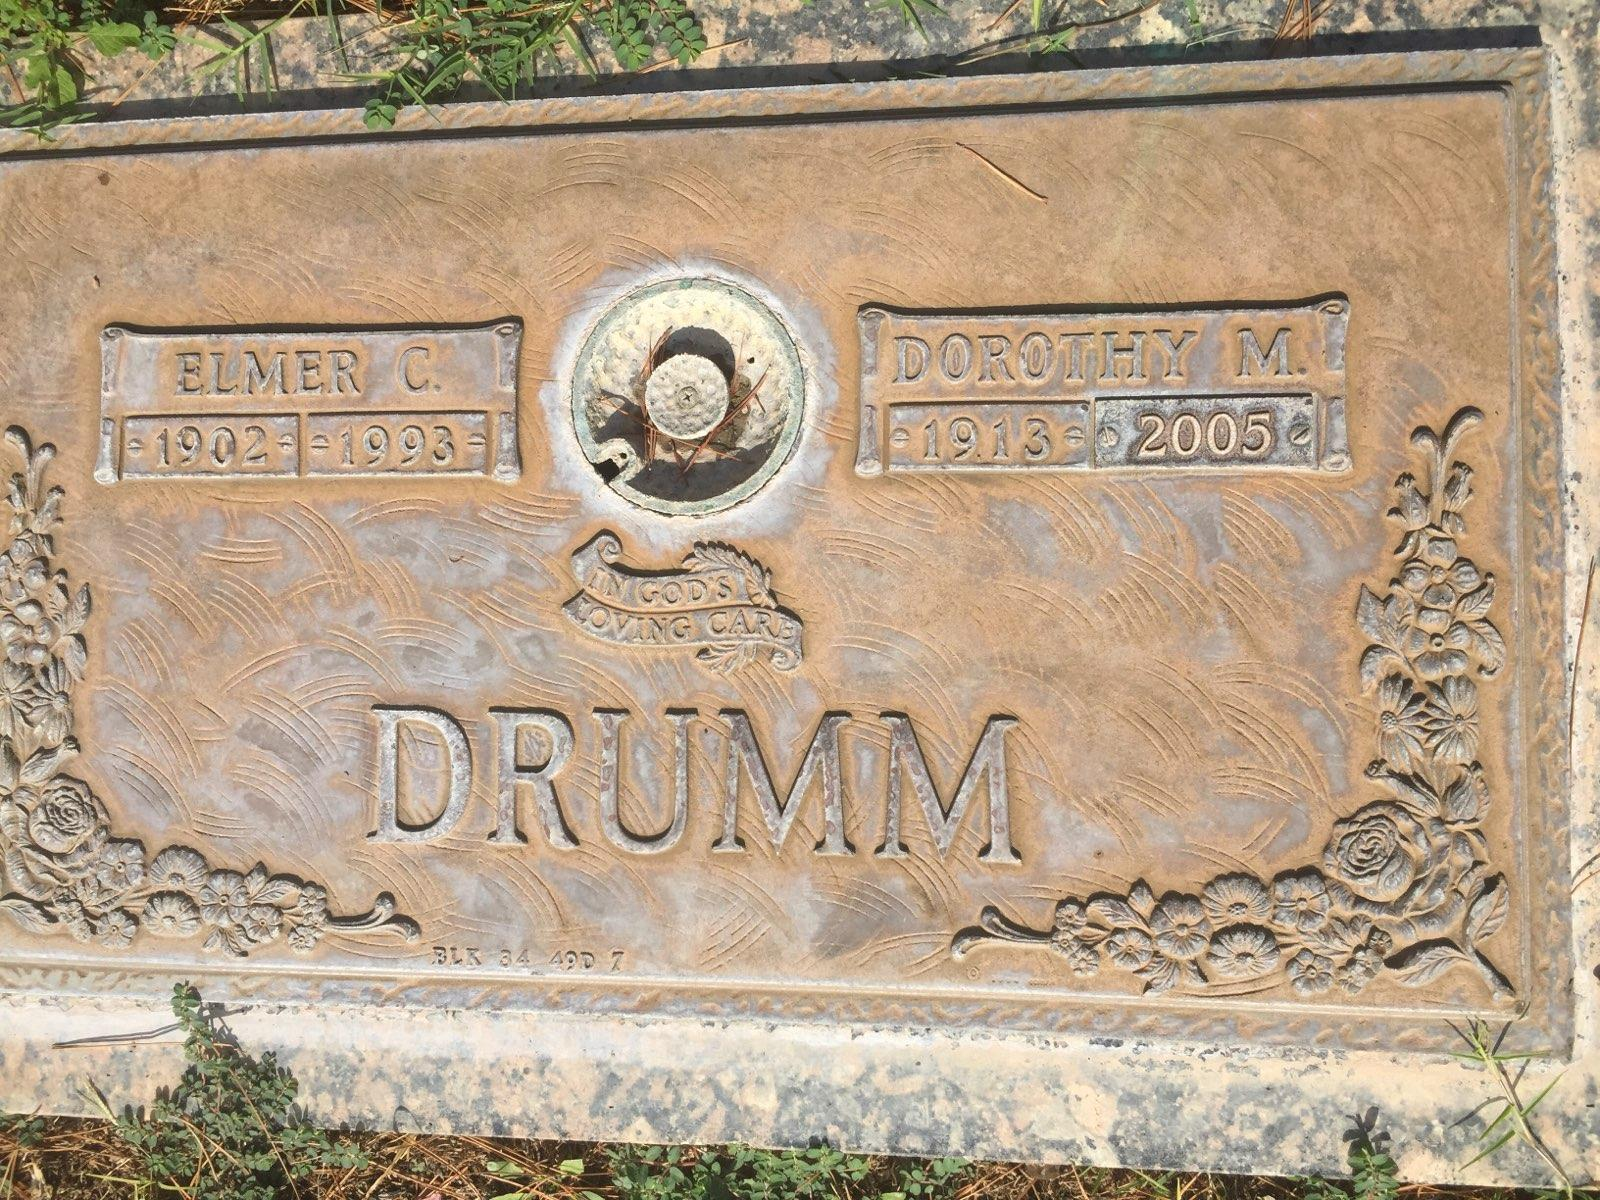flat: (6, 42, 1575, 1129)
